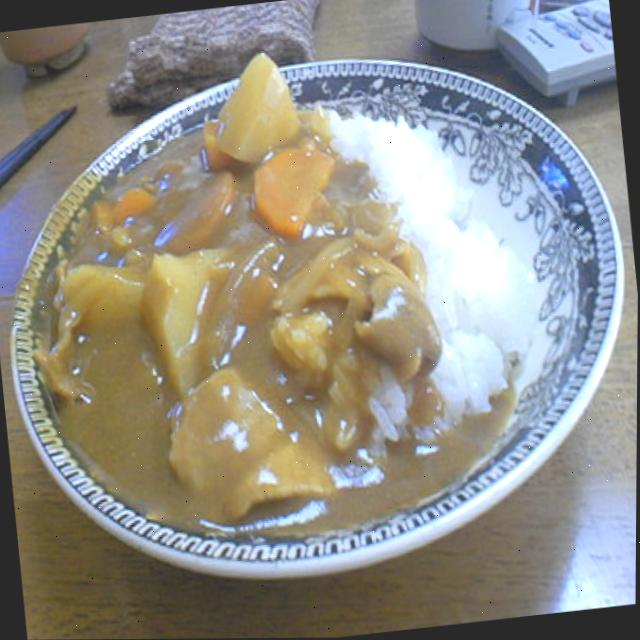牛肉菜式: (0, 7, 640, 604)
